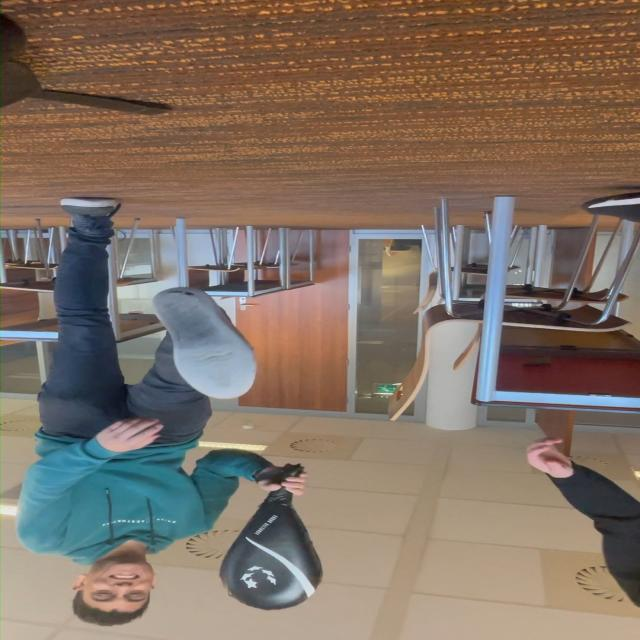paddle: (229, 514, 308, 612)
